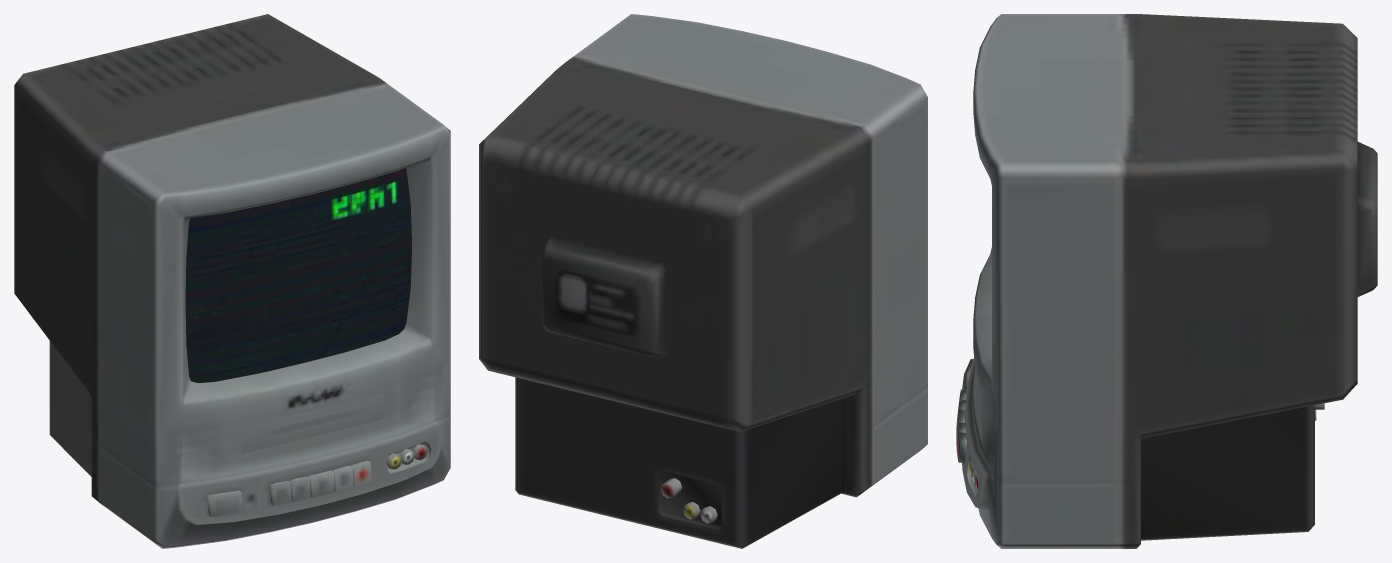
3 renders of one model, left to right at view 1: azimuth 30°, elevation 25°; view 2: azimuth 150°, elevation 25°; view 3: azimuth 270°, elevation 25°, orthographic. The views are drawn at different scales.
Bounding box in the file's own units: 8.52 × 9.71 × 9.61.
Materials: 2 (2 with a texture image).
